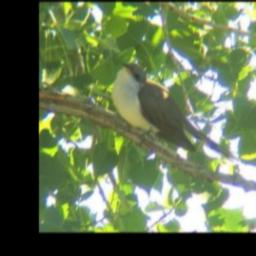Cuckoo: (111, 61, 244, 162)
